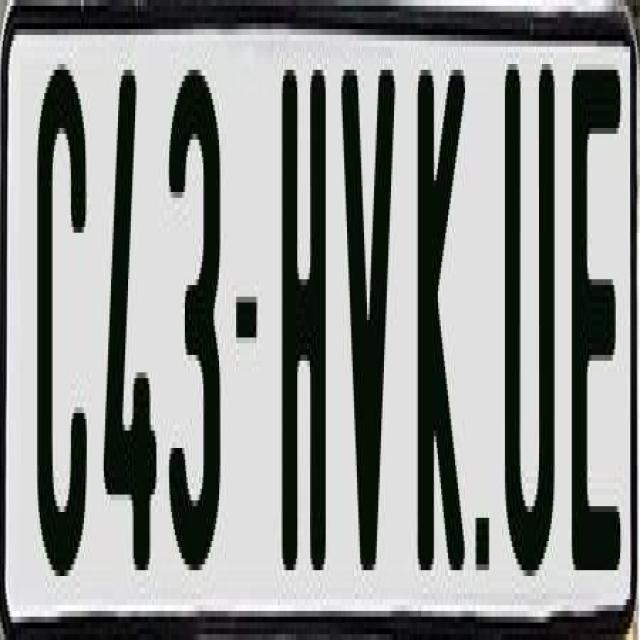3: (168, 63, 226, 564)
4: (99, 70, 158, 576)
C: (35, 46, 94, 594)
E: (568, 58, 618, 570)
H: (279, 52, 330, 553)
K: (417, 52, 465, 553)
U: (504, 52, 558, 600)
V: (340, 70, 394, 600)
